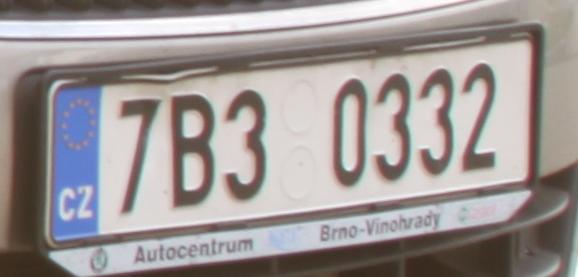0: (332, 80, 367, 186)
2: (459, 61, 499, 171)
3: (224, 87, 269, 200), (374, 73, 414, 180), (418, 68, 455, 177)
7: (117, 95, 164, 214)
B: (171, 92, 216, 208)
